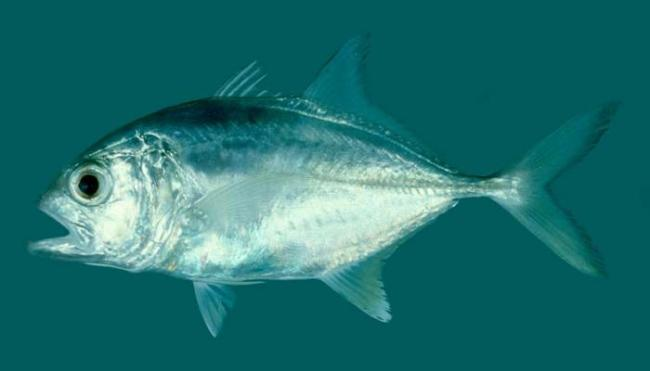fish: (28, 32, 621, 341)
